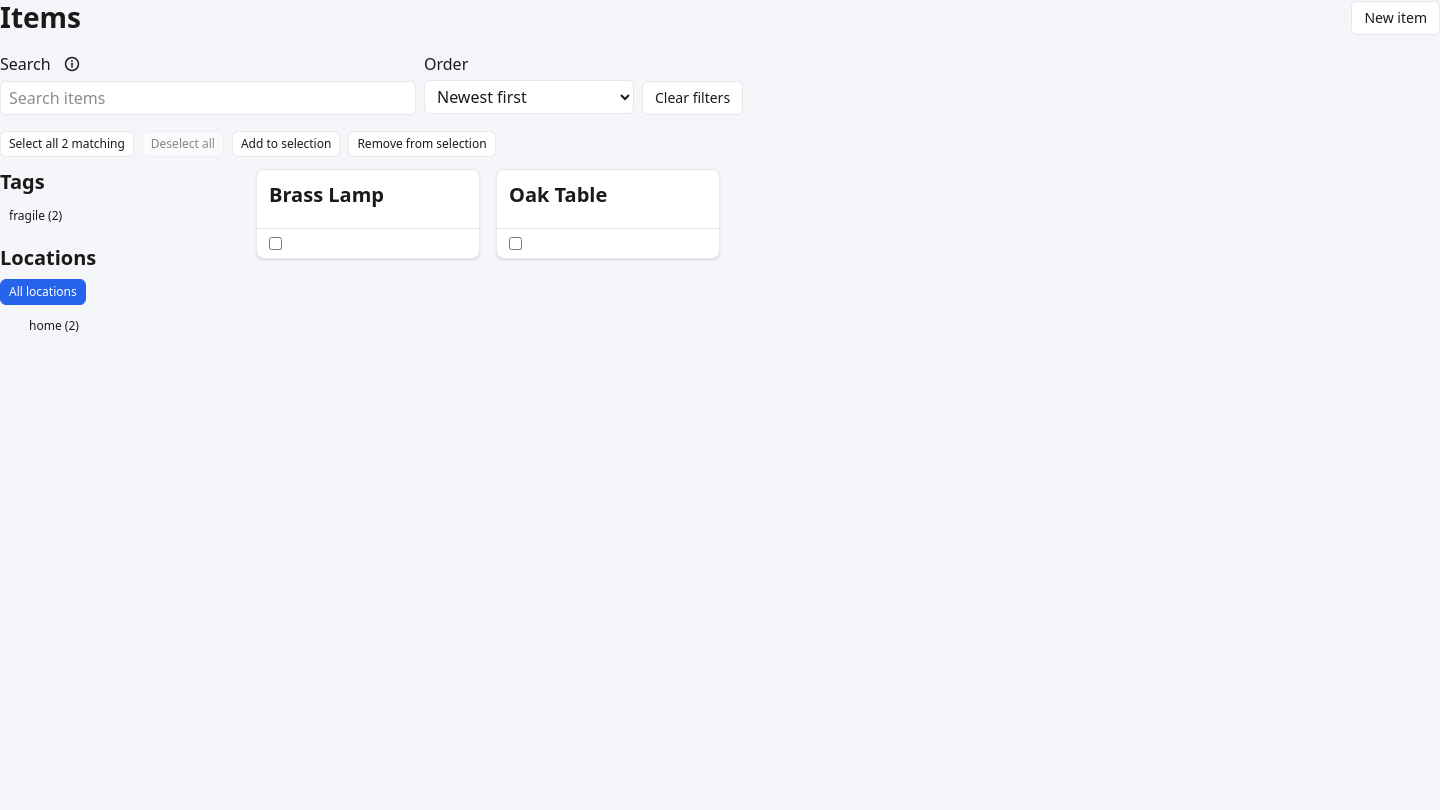
Test: selecting items on the catalog › will not apply a clause that resolves to nothing
Click the button "Add to selection". click: (286,144)
box: left=232, top=131, right=340, bottom=157
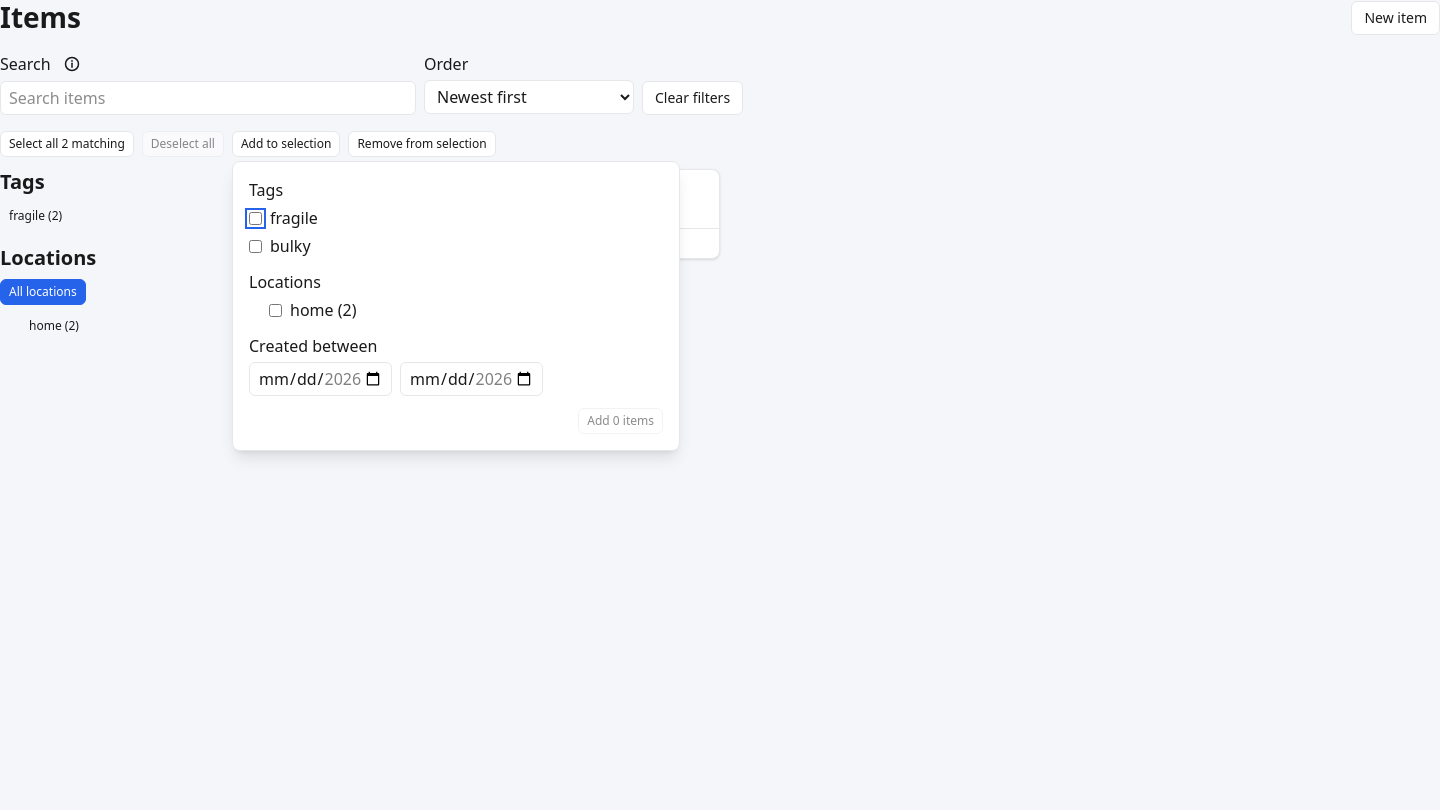
Now the button "Add 0 items" is disabled, box left=578, top=408, right=663, bottom=434
